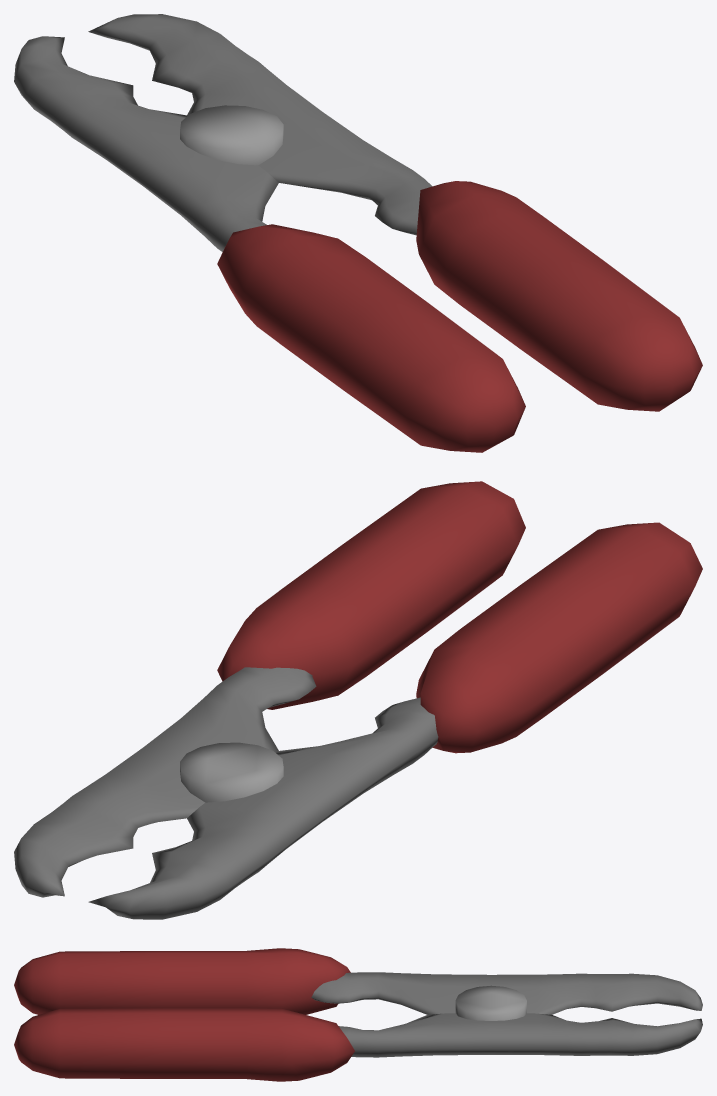
File: Wirecutters.fbx
The picture shows the model from 3 angles, top to bottom: view 1: azimuth 30°, elevation 25°; view 2: azimuth 150°, elevation 25°; view 3: azimuth 270°, elevation 25°; orthographic projection. The views are drawn at different scales.
Visible parts, largest first — view 1: WirecuttersV2; view 2: WirecuttersV2; view 3: WirecuttersV2.
Part boxes in pixels (x1,y1,x2,y2): WirecuttersV2: (14, 14, 702, 452); WirecuttersV2: (14, 481, 702, 919); WirecuttersV2: (14, 948, 702, 1081).
Size of the model in its own units: 0.1107 by 0.0347 by 0.3343.
